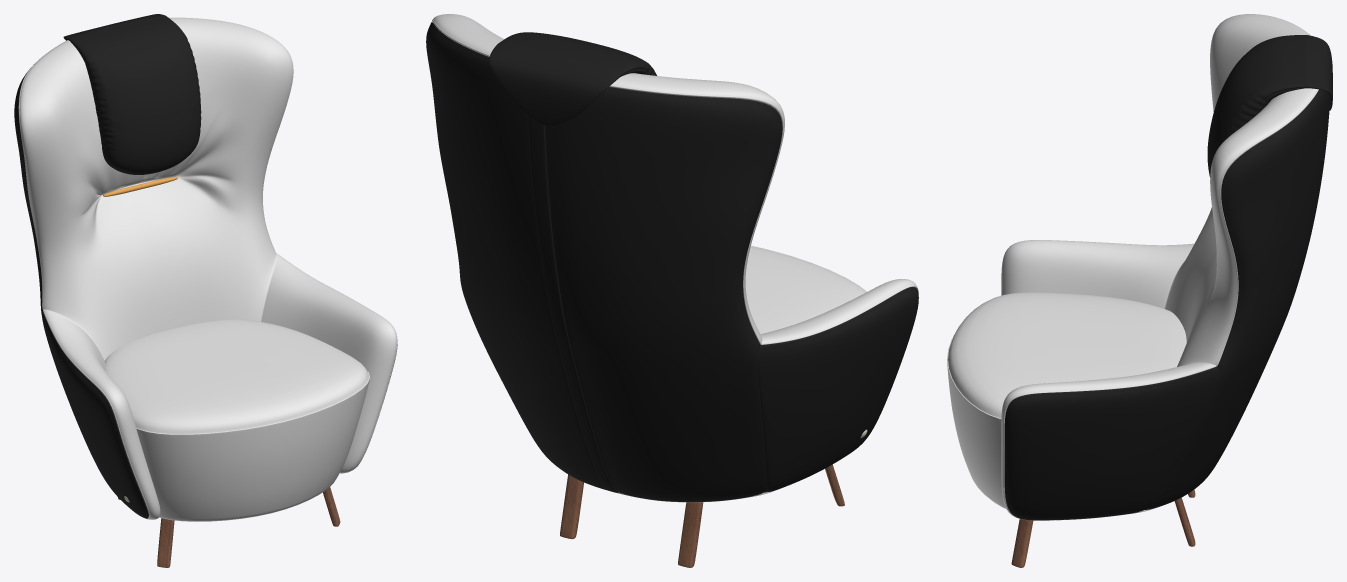
Rendered from SLN_TUXEDO_ODD_CHAIR.glb.
3 renders of one model, left to right at view 1: azimuth 30°, elevation 25°; view 2: azimuth 150°, elevation 25°; view 3: azimuth 270°, elevation 25°, orthographic. The views are drawn at different scales.
Parts seen in each view (by area): view 1: TUXEDO_ODD_CHAIR; view 2: TUXEDO_ODD_CHAIR; view 3: TUXEDO_ODD_CHAIR.
Part boxes in pixels (x1,y1,x2,y2): TUXEDO_ODD_CHAIR: (14,14,397,567); TUXEDO_ODD_CHAIR: (426,14,918,567); TUXEDO_ODD_CHAIR: (947,14,1332,567).
Bounding box in the file's own units: 1.04 × 1.44 × 1.09.
5 materials, 1 textured.
